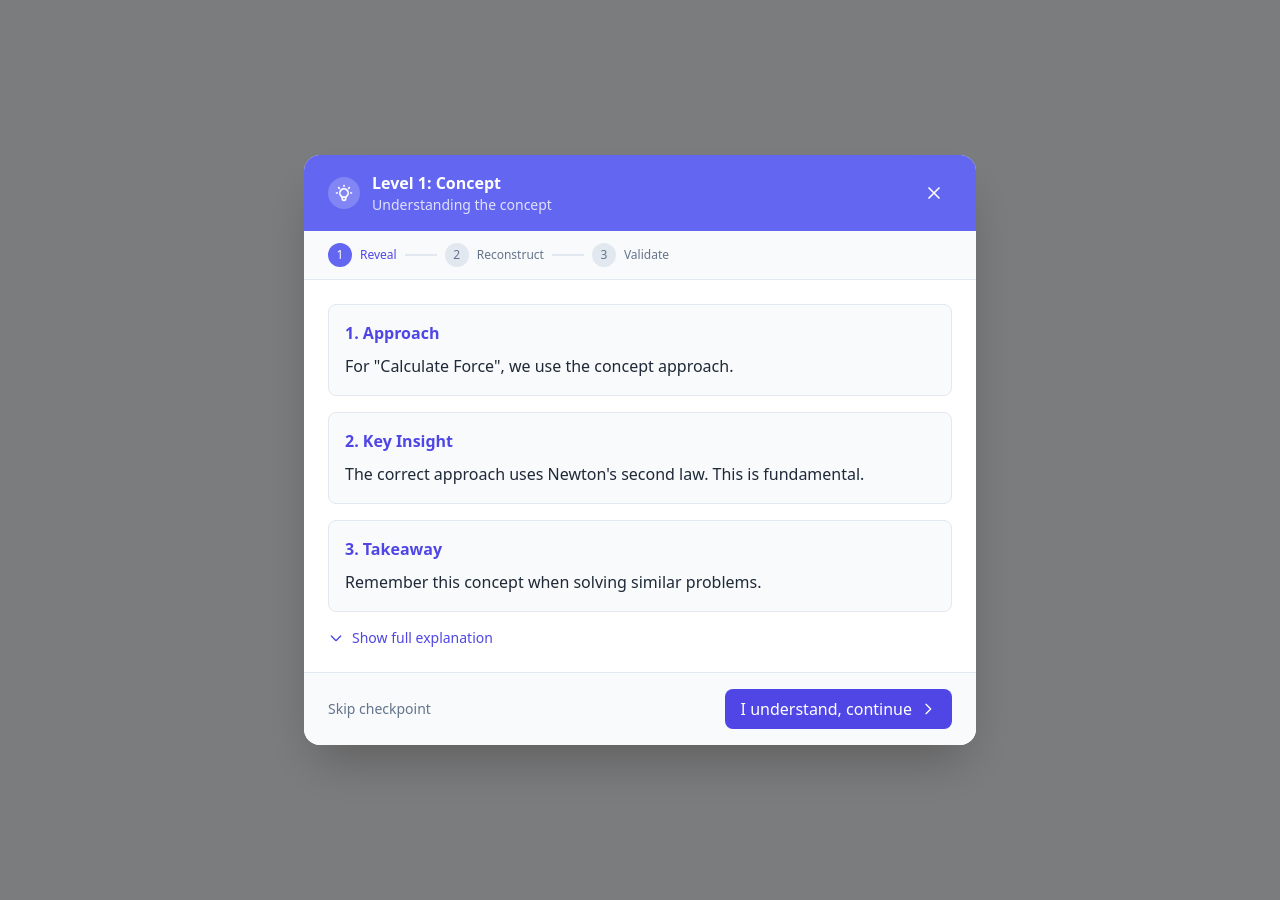
RevealReconstructValidate › Reconstruct Stage › proceeds to reconstruct stage when clicking continue
This screenshot has width=1280, height=900.
Click the button "I understand, continue" at {"x": 838, "y": 709}, box [725,689,952,729]
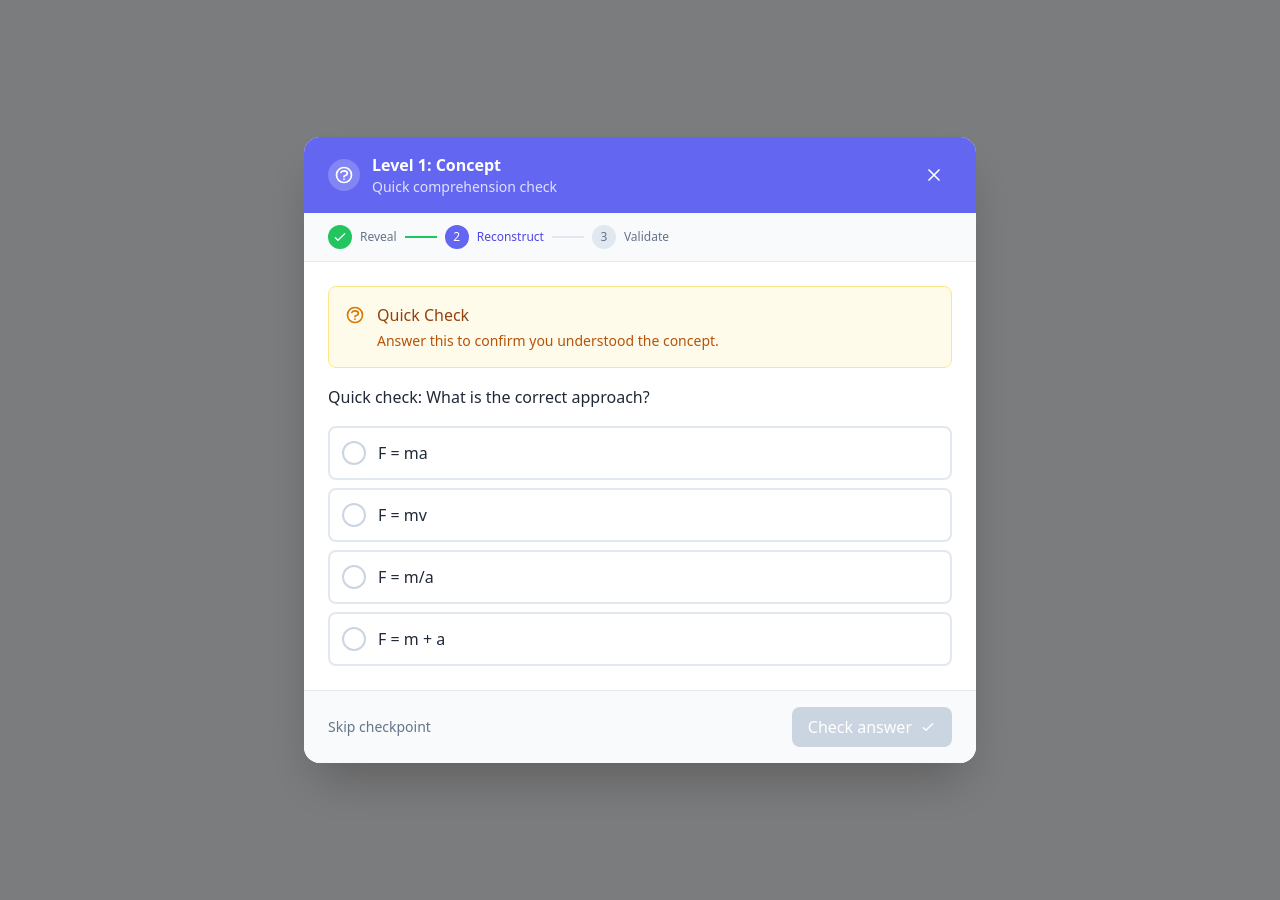
Check: the text "Quick comprehension check" is shown, box [372,177,557,197]
Check: the text "Quick Check" is shown, box [377,304,469,326]
